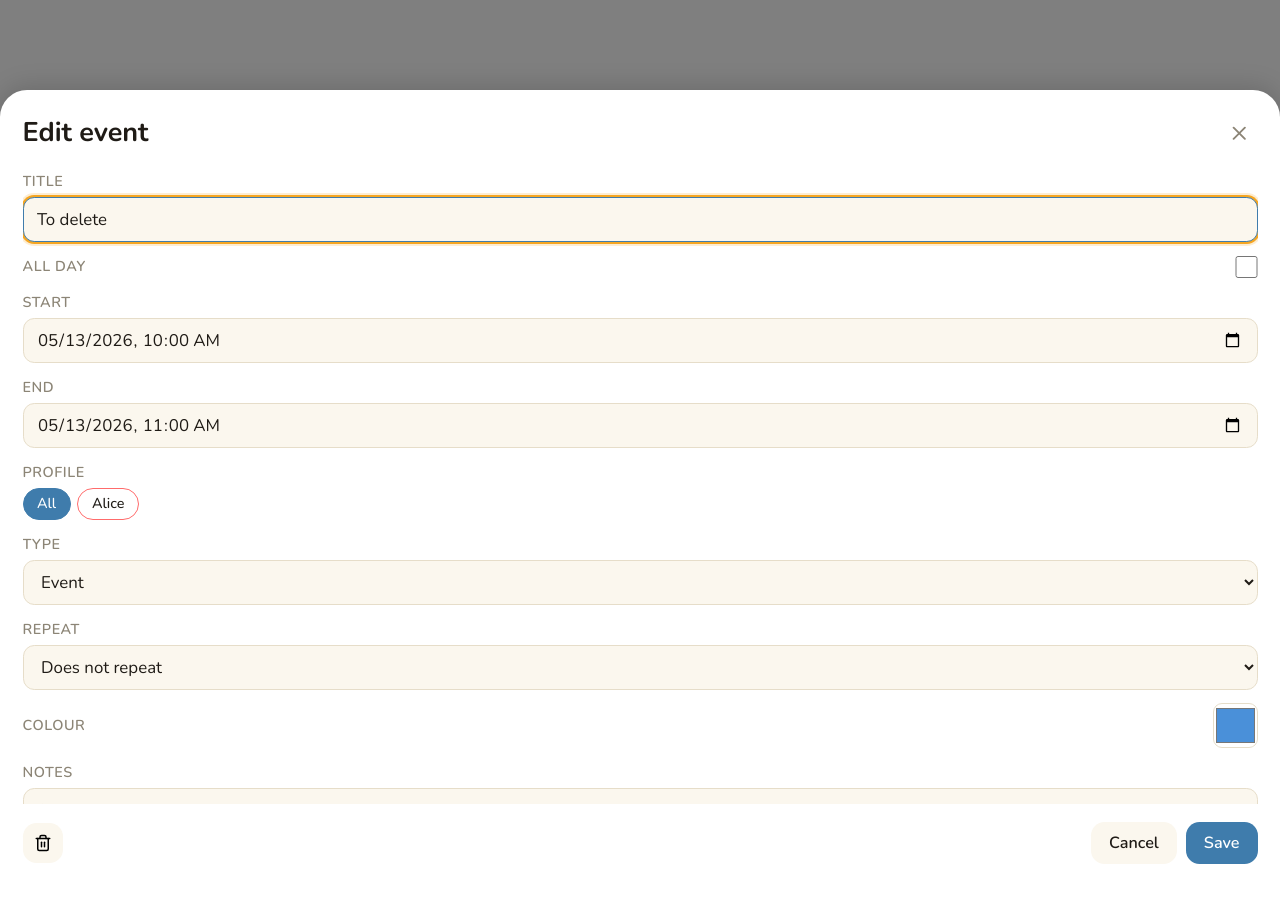
Scenario: EventModal — delete confirmation › shows delete confirm card after clicking delete icon in edit mode
Step 1. Click the button named "Delete event" → (43, 843), box [22,823,63,863]
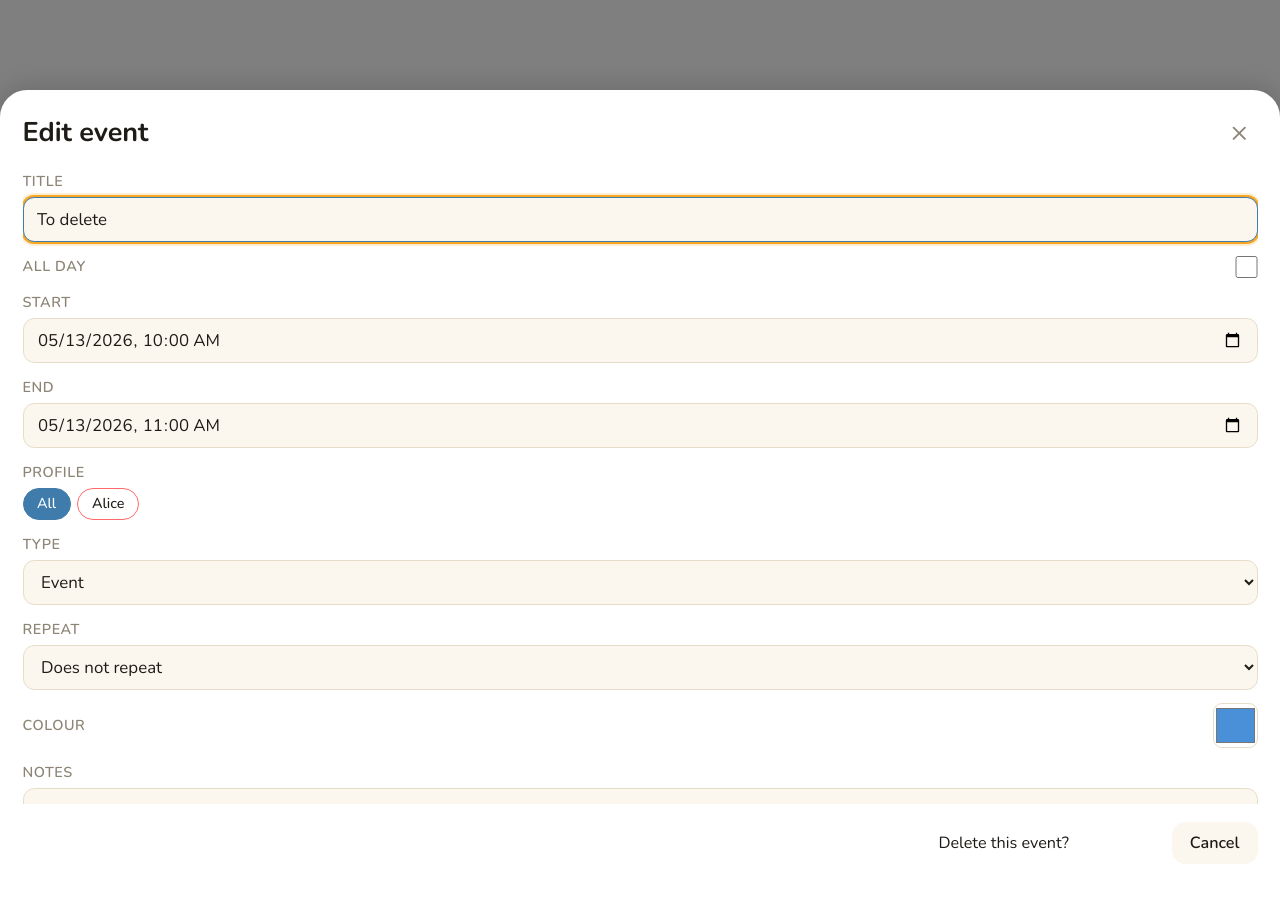
Now the text "Delete this event?" is shown, box [938,831,1069,855]
